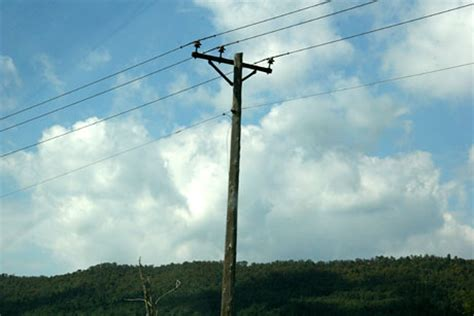pole: (173, 33, 292, 310)
